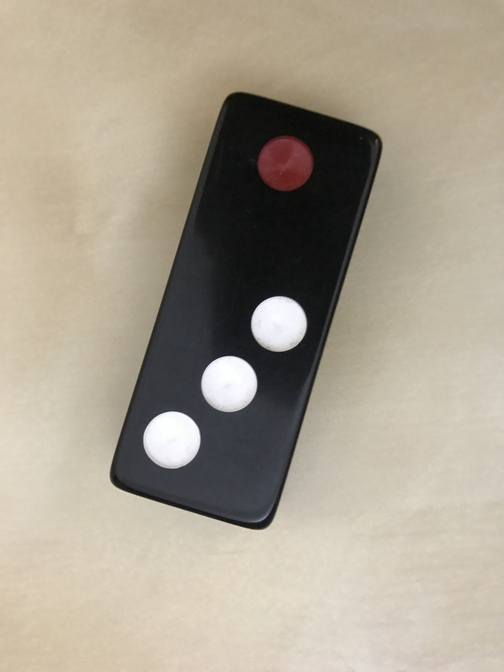goose: (111, 91, 382, 532)
